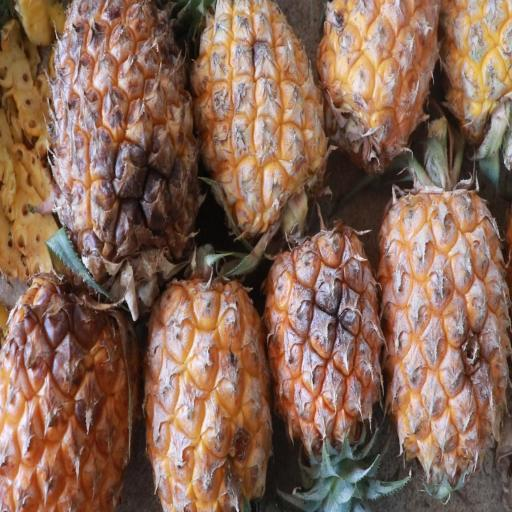Pineapple - v8 v1: (42, 0, 196, 295), (376, 167, 512, 486), (1, 263, 144, 511), (187, 0, 330, 246), (141, 258, 273, 509), (263, 217, 385, 455), (316, 0, 446, 172)
